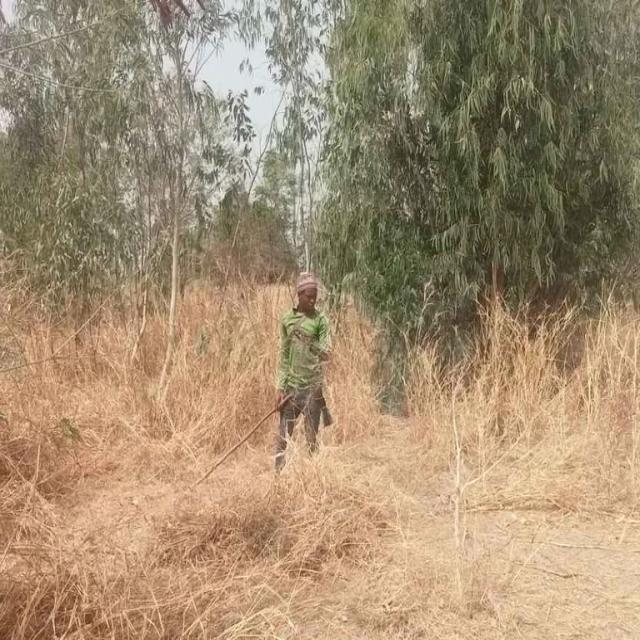Forest: (1, 0, 640, 640)
Militant: (256, 255, 367, 510)
